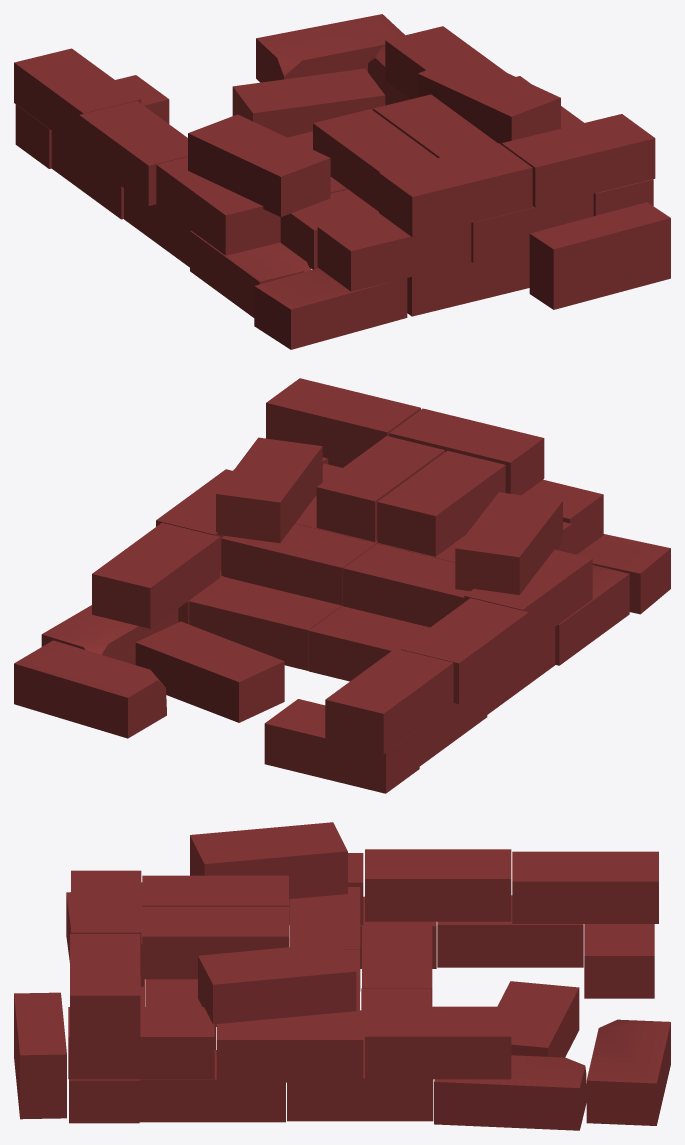
Rendered from SM_BricksPack03.fbx.
3 renders of one model, top to bottom at view 1: azimuth 30°, elevation 25°; view 2: azimuth 150°, elevation 25°; view 3: azimuth 270°, elevation 25°, orthographic. The views are drawn at different scales.
Visible parts, largest first — view 1: BricksPack03; view 2: BricksPack03; view 3: BricksPack03.
Boxes of the visible parts, x1,y1,x2,y2 form: BricksPack03: (14,14,670,349); BricksPack03: (14,378,670,793); BricksPack03: (14,822,670,1130).
Size of the model in its own units: 79.87 by 24.09 by 112.
